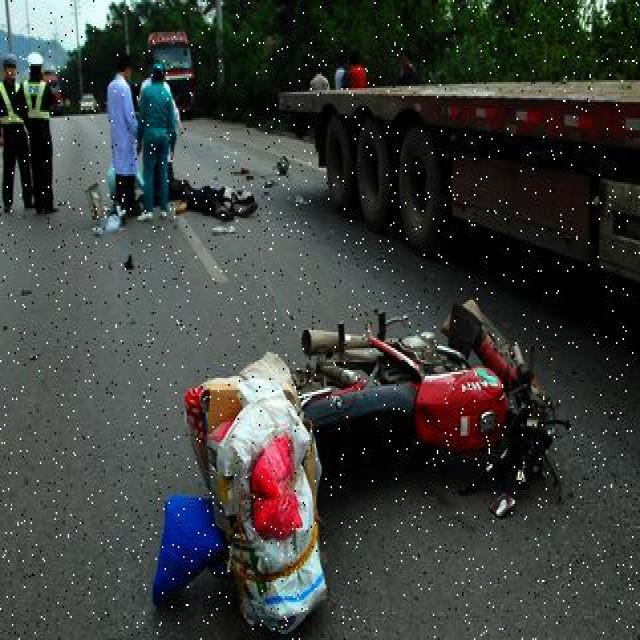fall: (144, 166, 256, 224)
